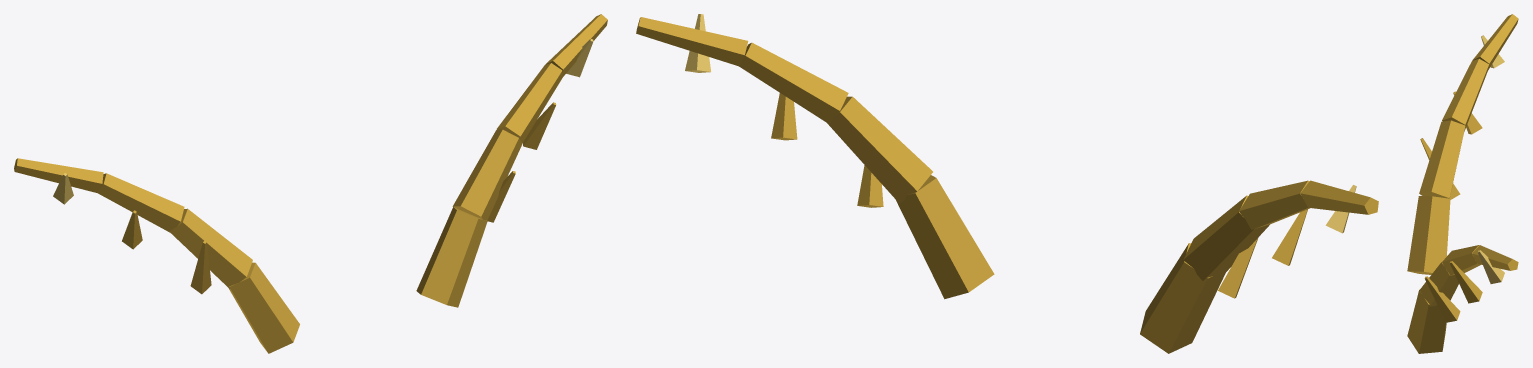
Rendered from crest_hartcrown.glb.
3 views of the same model, side by side, from view 1: azimuth 30°, elevation 25°; view 2: azimuth 150°, elevation 25°; view 3: azimuth 270°, elevation 25° (orthographic). The views are drawn at different scales.
Visible parts, largest first — view 1: Crest_hartcrown; view 2: Crest_hartcrown; view 3: Crest_hartcrown.
Part boxes in pixels (x1,y1,x2,y2): Crest_hartcrown: (14, 14, 607, 353); Crest_hartcrown: (636, 14, 1378, 353); Crest_hartcrown: (1407, 14, 1518, 353).
Size of the model in its own units: 1.29 by 0.4292 by 0.2429.
